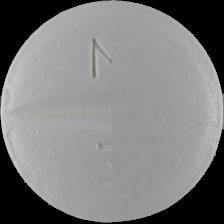61786-549: (0, 0, 224, 224)
